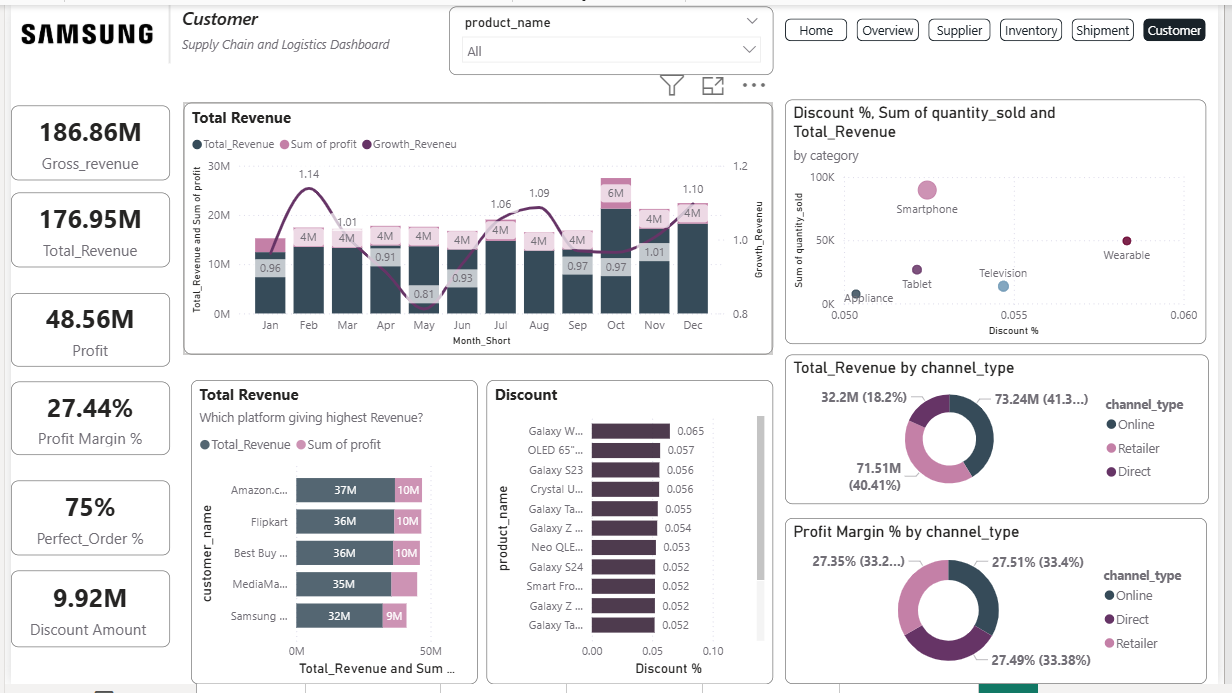

This screenshot's page, from the dashboard's own definition file:
{"tool":"powerbi","page":{"name":"Customer","canvas":[1280,720],"ordinal":5},"visuals":[{"type":"shape","title":"Customer","box":[181.6,2.1,240,60.5],"z":0},{"type":"donutChart","fields":{"Y":["MeasuresTable.Total_Revenue"],"Category":["dim_customer.channel_type"]},"box":[820.1,370.9,449.3,158.9],"z":0,"group":"g1"},{"type":"donutChart","fields":{"Category":["dim_customer.channel_type"],"Y":["MeasuresTable.Profit Margin %"]},"box":[820.1,544.6,447.2,175.9],"z":0,"group":"g2"},{"type":"shape","box":[154.6,0,27.7,61.8],"z":1000},{"type":"image","box":[0,0,154.6,60.2],"z":2000},{"type":"card","fields":{"Values":["Sum(fact_sales.gross_revenue)"]},"box":[0,106.6,168.6,79.5],"z":3000},{"type":"card","fields":{"Values":["MeasuresTable.Profit"]},"box":[0,305.4,168.6,77.9],"z":4000},{"type":"card","fields":{"Values":["MeasuresTable.Profit Margin %"]},"box":[0,399.2,168.6,77.9],"z":5000},{"type":"card","fields":{"Values":["MeasuresTable.Perfect_Order %"]},"box":[0,504.2,168.6,79.5],"z":6000},{"type":"card","fields":{"Values":["Sum(fact_sales.discount_amount)"]},"box":[0,599.7,168.6,81.1],"z":7000},{"type":"card","fields":{"Values":["MeasuresTable.Total_Revenue"]},"box":[0,198.8,168.6,79.5],"z":8000},{"type":"barChart","title":"Total Revenue ","fields":{"Category":["dim_customer.customer_name"],"Y":["MeasuresTable.Total_Revenue","Sum(fact_sales.profit)"]},"box":[190.9,397.7,303.8,322.9],"z":9000},{"type":"group","id":"g1","title":"Group 1","box":[820.1,370.9,449.3,158.9],"z":10000},{"type":"lineStackedColumnComboChart","title":"Total Revenue ","fields":{"Category":["dim_date.Month_Short"],"Y":["MeasuresTable.Total_Revenue","Sum(fact_sales.profit)"],"Y2":["MeasuresTable.Growth_Reveneu"]},"box":[182.3,103.8,625.2,267],"z":11000},{"type":"scatterChart","fields":{"X":["MeasuresTable.Discount %"],"Y":["Sum(fact_sales.quantity_sold)"],"Series":["dim_product.category"],"Size":["MeasuresTable.Total_Revenue"]},"box":[820.8,100.2,447,259.3],"z":12000},{"type":"clusteredBarChart","title":"Discount","fields":{"Category":["dim_product.product_name"],"Y":["MeasuresTable.Discount %"]},"box":[504.2,397.7,303.8,322.9],"z":13000},{"type":"group","id":"g2","title":"Group 1","box":[820.1,544.6,447.2,175.9],"z":14000},{"type":"pageNavigator","box":[820.3,14.2,447.6,24.3],"z":14001},{"type":"slicer","fields":{"Values":["dim_product.product_name"]},"box":[463.8,2,344.3,72.9],"z":14002}]}

Visuals, with their boxes in screenshot pixels (x1, y1, x2, y2), scaled from the page's 1280x720 canvas onto the 1232x693 screenshot:
"Customer" shape: (x1=175, y1=2, x2=406, y2=60)
donutChart - MeasuresTable.Total_Revenue x dim_customer.channel_type: (x1=789, y1=357, x2=1222, y2=510)
donutChart - dim_customer.channel_type x MeasuresTable.Profit Margin %: (x1=789, y1=524, x2=1220, y2=692)
shape: (x1=149, y1=0, x2=175, y2=59)
image: (x1=0, y1=0, x2=149, y2=58)
card - Sum(fact_sales.gross_revenue): (x1=0, y1=103, x2=162, y2=179)
card - MeasuresTable.Profit: (x1=0, y1=294, x2=162, y2=369)
card - MeasuresTable.Profit Margin %: (x1=0, y1=384, x2=162, y2=459)
card - MeasuresTable.Perfect_Order %: (x1=0, y1=485, x2=162, y2=562)
card - Sum(fact_sales.discount_amount): (x1=0, y1=577, x2=162, y2=655)
card - MeasuresTable.Total_Revenue: (x1=0, y1=191, x2=162, y2=268)
"Total Revenue " barChart: (x1=184, y1=383, x2=476, y2=692)
"Group 1" group: (x1=789, y1=357, x2=1222, y2=510)
"Total Revenue " lineStackedColumnComboChart: (x1=175, y1=100, x2=777, y2=357)
scatterChart - MeasuresTable.Discount % x Sum(fact_sales.quantity_sold): (x1=790, y1=96, x2=1220, y2=346)
"Discount" clusteredBarChart: (x1=485, y1=383, x2=778, y2=692)
"Group 1" group: (x1=789, y1=524, x2=1220, y2=692)
pageNavigator: (x1=790, y1=14, x2=1220, y2=37)
slicer - dim_product.product_name: (x1=446, y1=2, x2=778, y2=72)
